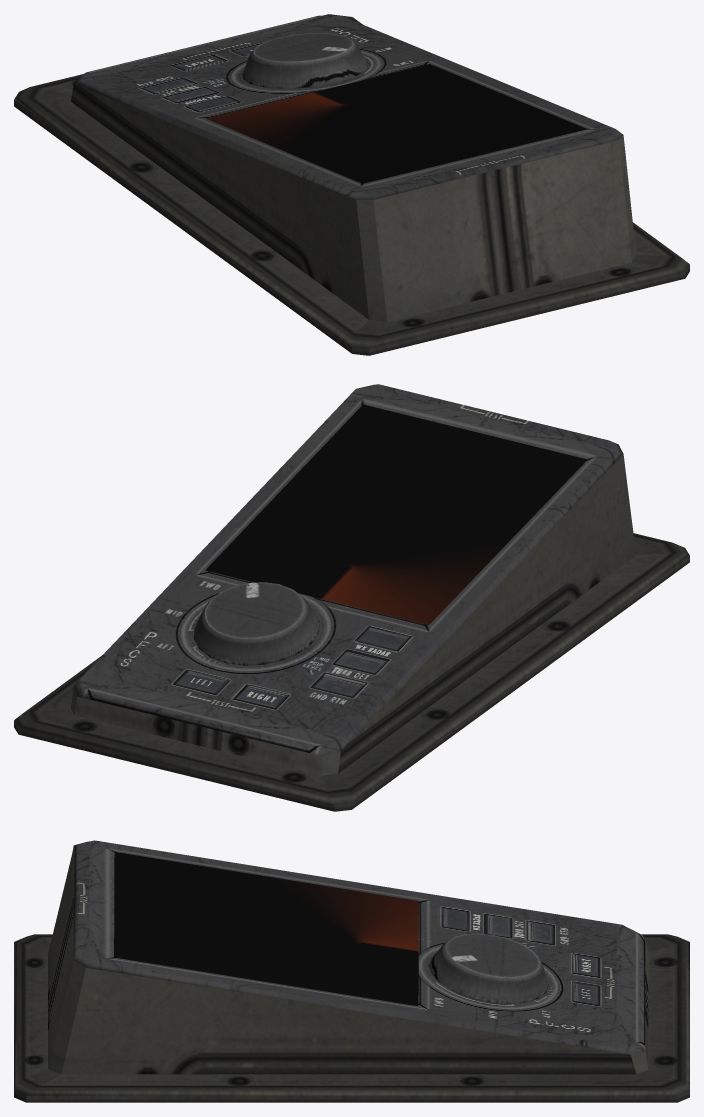
Rendered from p6_control_panel_01_lod0.glb.
The picture shows the model from 3 angles, top to bottom: view 1: azimuth 30°, elevation 25°; view 2: azimuth 150°, elevation 25°; view 3: azimuth 270°, elevation 25°; orthographic projection. The views are drawn at different scales.
Visible parts, largest first — view 1: surf0, surf1, surf2; view 2: surf1, surf0, surf2; view 3: surf0, surf1, surf2.
Boxes of the visible parts, x1,y1,x2,y2 form: surf0: [14, 14, 689, 355]; surf1: [74, 15, 623, 199]; surf2: [206, 64, 587, 183]; surf1: [74, 384, 623, 756]; surf0: [14, 454, 689, 811]; surf2: [205, 404, 587, 625]; surf0: [14, 847, 689, 1102]; surf1: [73, 840, 645, 1054]; surf2: [114, 852, 418, 1005].
Size of the model in its own units: 11.47 by 4.17 by 20.62.
